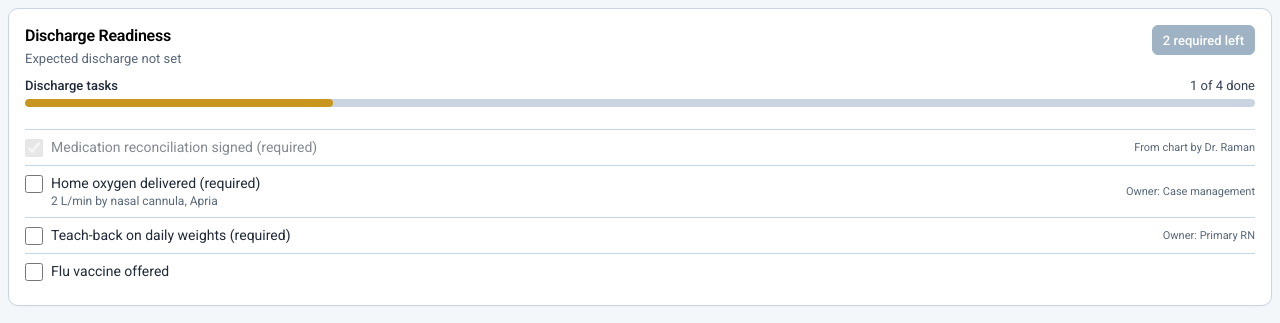
Test: DischargeChecklist › unticking clears the stamp and shows the owner again
Click the checkbox labelled "Home oxygen delivered" at (34, 184), box [25,175,43,193]
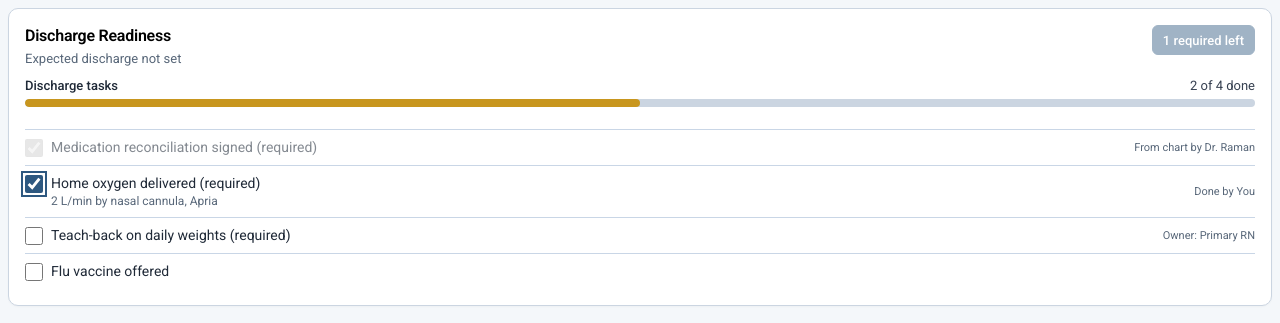
Click the checkbox labelled "Home oxygen delivered" at (34, 184), box [25,175,43,193]
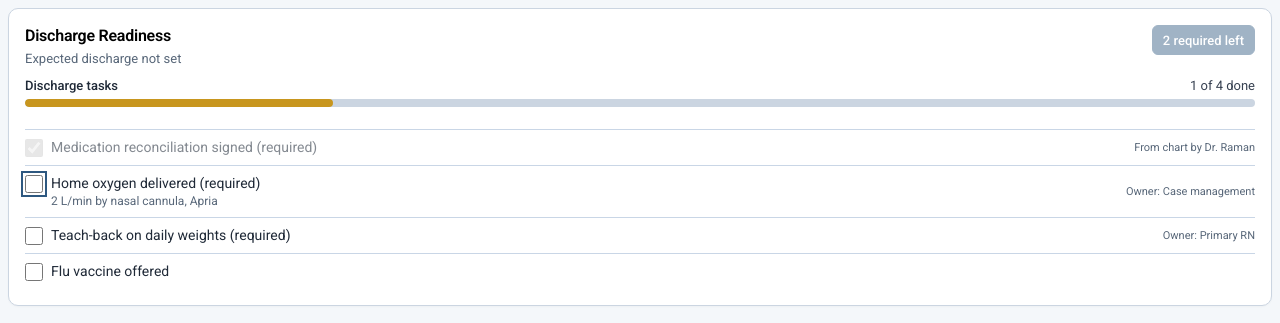
Result: the text "Owner: Case management" is shown at [1126,185,1255,198]
